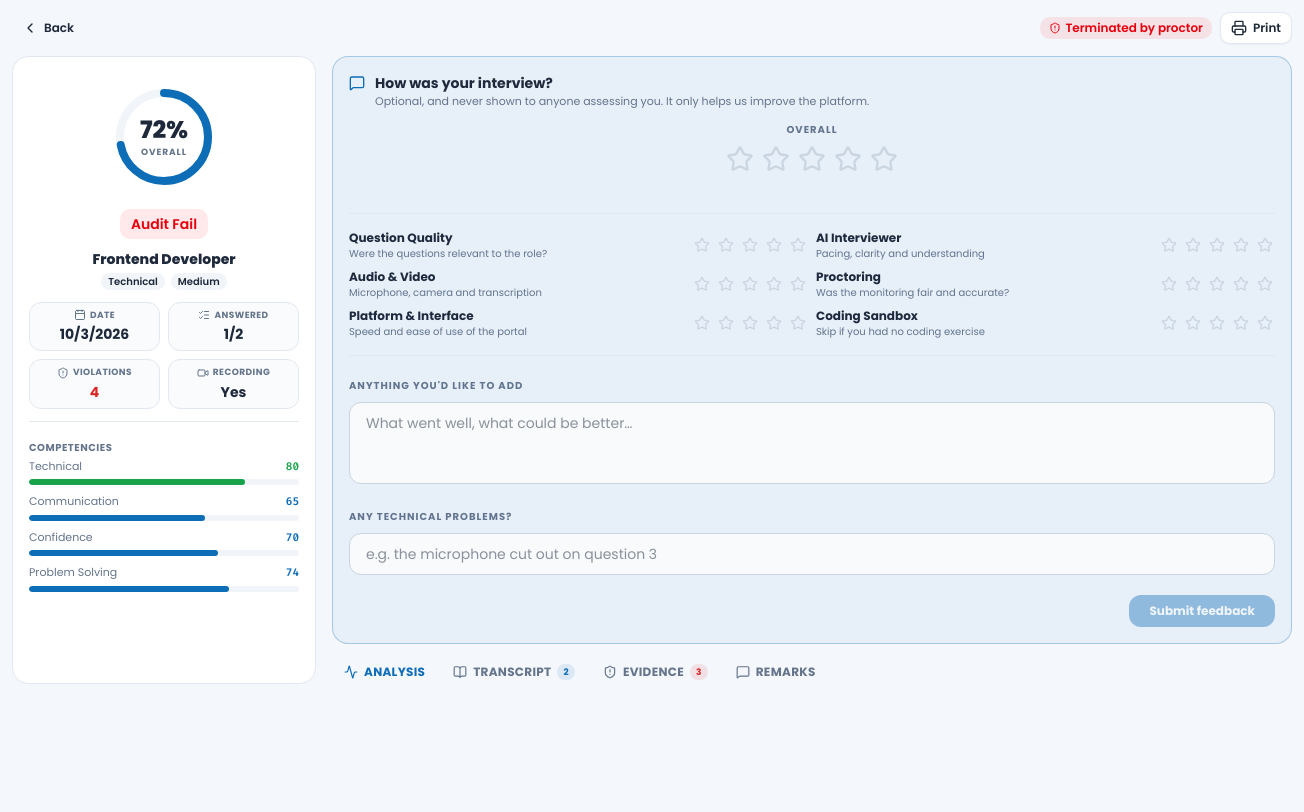
Test: ReportDetailPage › keeps the form up and explains itself when submission fails
Expected: the heading "How was your interview?" is shown, top-left (375, 73), bottom-right (553, 93)
Click the 1st radio button named "5 out of 5" at (884, 158), box top-left (868, 142), bottom-right (900, 174)
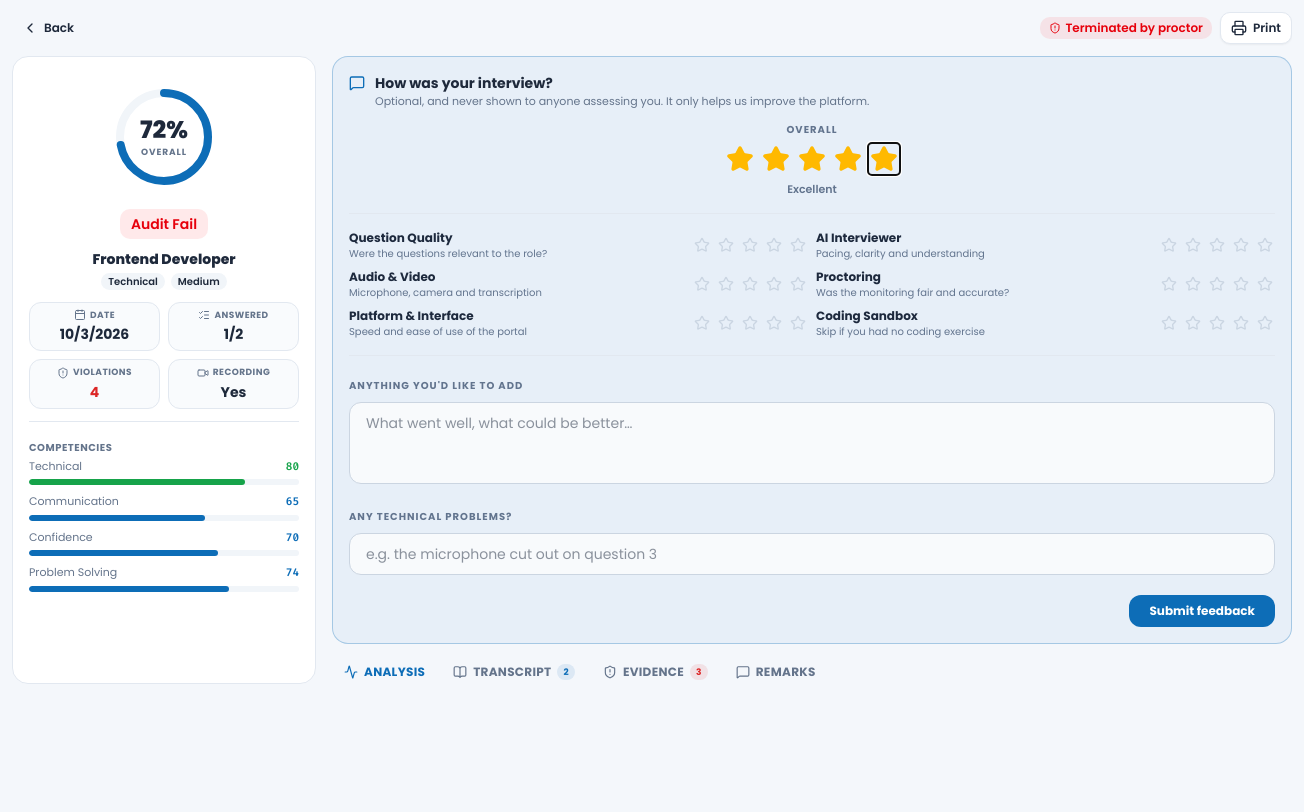
Click the button "Submit feedback" at (1202, 610), box top-left (1130, 594), bottom-right (1275, 626)
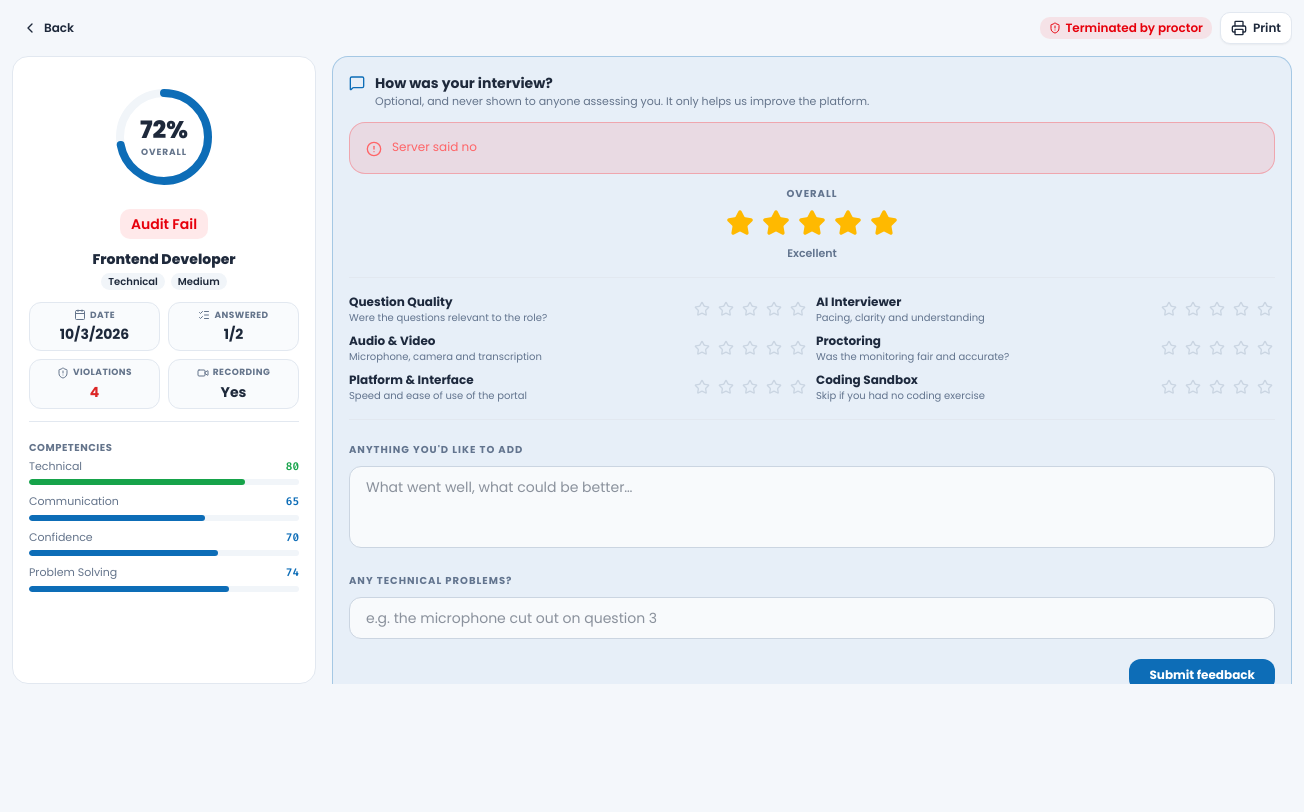
Expected: the heading "How was your interview?" is shown, top-left (375, 73), bottom-right (553, 93)
Now the text "Server said no" is shown, box top-left (392, 138), bottom-right (477, 154)
